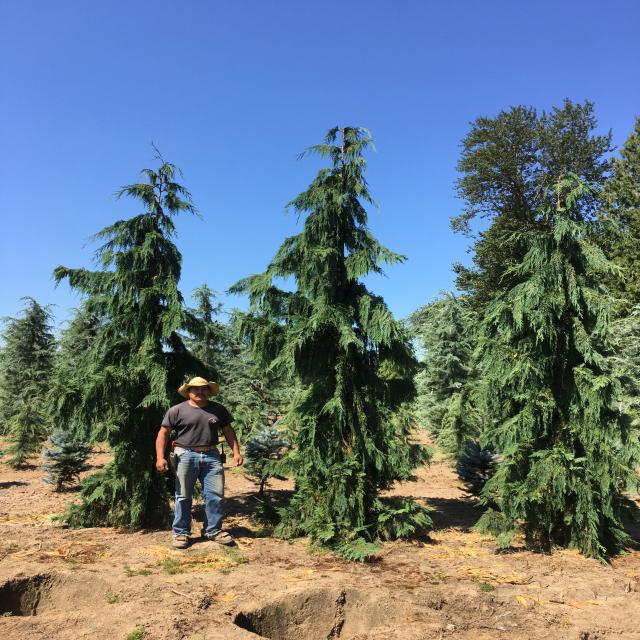Cupressus nootkatensis: (262, 125, 423, 564), (468, 175, 640, 565), (53, 142, 210, 532)
